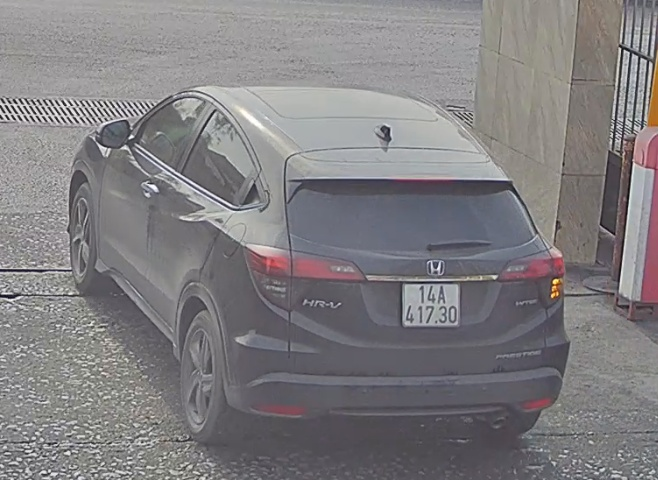vehicle plate: (393, 277, 469, 330)
